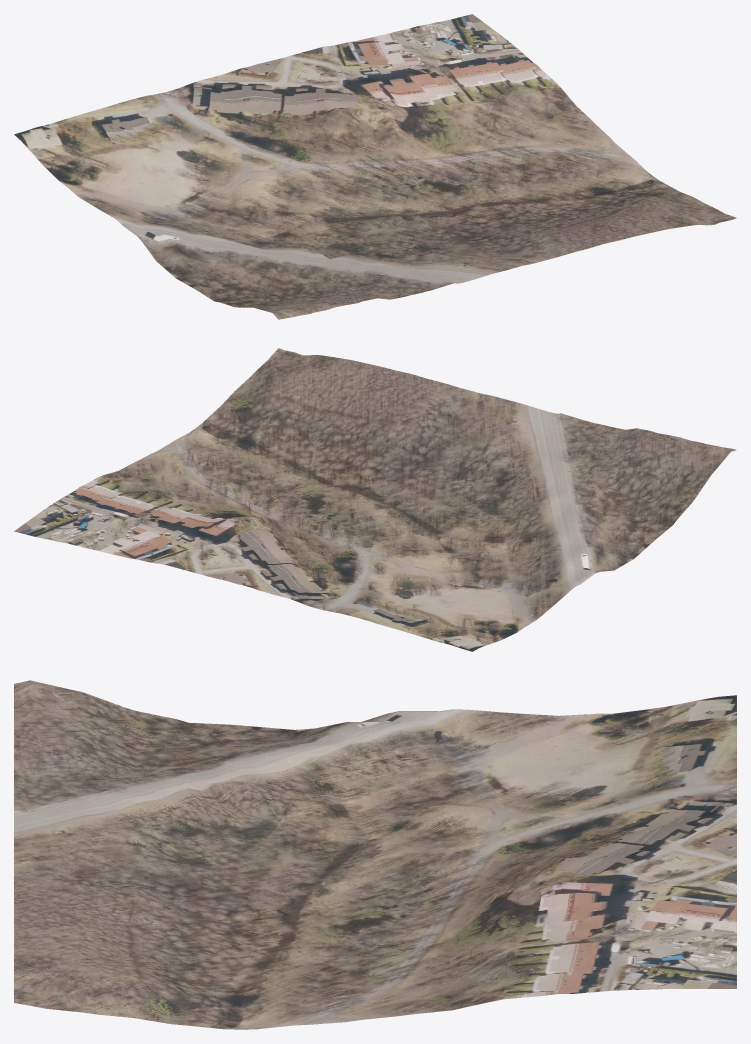
Rendered from CM_Terrain_24491892_6817951.fbx.
3 views of the same model, one above another, from view 1: azimuth 30°, elevation 25°; view 2: azimuth 150°, elevation 25°; view 3: azimuth 270°, elevation 25° (orthographic). The views are drawn at different scales.
Visible parts, largest first — view 1: CM_Terrain_24491892_6817951_LOD0; view 2: CM_Terrain_24491892_6817951_LOD0; view 3: CM_Terrain_24491892_6817951_LOD0.
Boxes of the visible parts, x1,y1,x2,y2 form: CM_Terrain_24491892_6817951_LOD0: (14, 14, 736, 319); CM_Terrain_24491892_6817951_LOD0: (14, 348, 736, 651); CM_Terrain_24491892_6817951_LOD0: (14, 680, 736, 1029).
Size of what is drawn, in the model's own units: 205 by 16.68 by 205.
